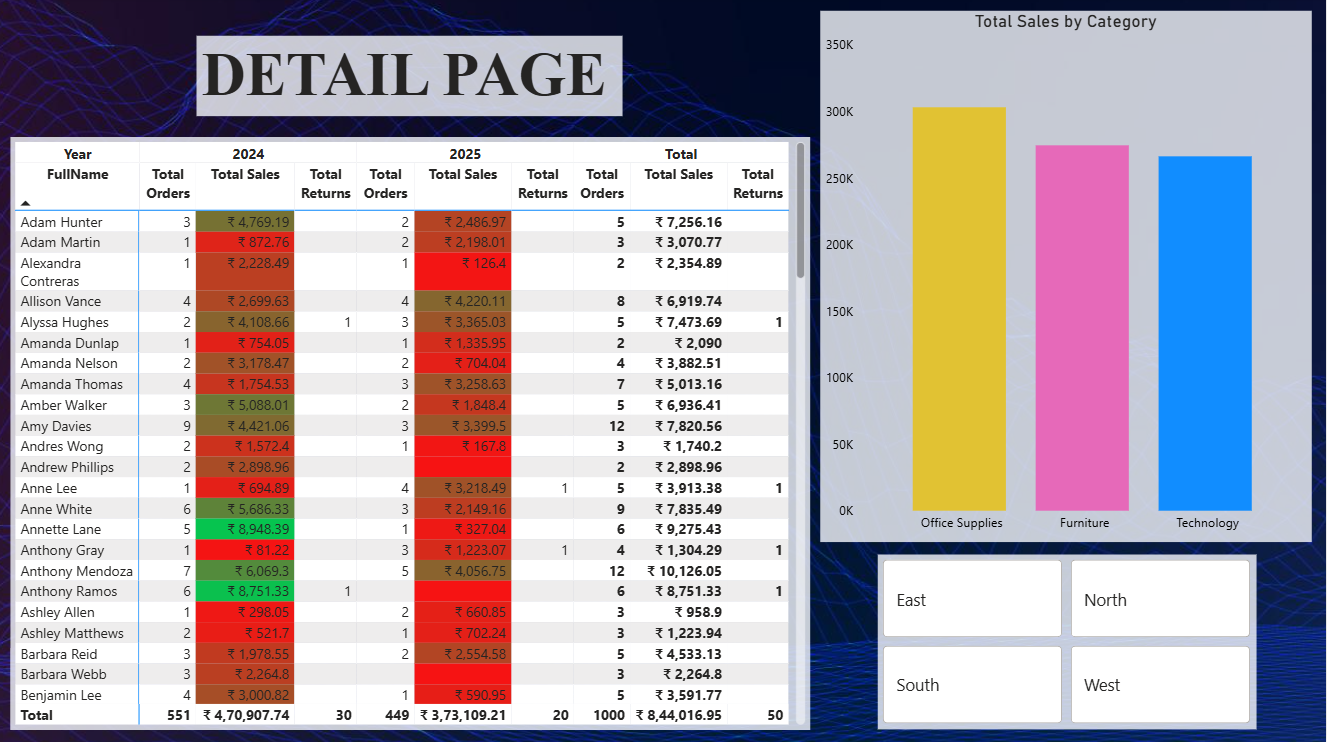

What the dashboard file says about the page in this screenshot:
{"tool":"powerbi","page":{"name":"DETAIL PAGE","canvas":[1280,720],"ordinal":1},"visuals":[{"type":"pivotTable","fields":{"Columns":["Date_Dim.Date.Variation.Date Hierarchy.Year","Date_Dim.Date.Variation.Date Hierarchy.Quarter","Date_Dim.Date.Variation.Date Hierarchy.Month","Date_Dim.Date.Variation.Date Hierarchy.Day"],"Rows":["Customer_Dim.FullName"],"Values":["Customer_Dim.Total Orders","Customer_Dim.Total Sales","Customer_Dim.Total Returns"]},"box":[10.9,135.1,772.1,571.9],"z":0},{"type":"columnChart","fields":{"Category":["Product_Dim.Category"],"Y":["Customer_Dim.Total Sales"]},"box":[792.6,13.3,474.1,512.7],"z":1000},{"type":"advancedSlicerVisual","fields":{"Values":["Customer_Dim.Region"]},"box":[848.1,538.1,365.6,168.9],"z":2000},{"type":"textbox","box":[190.6,37.4,411.4,77.2],"z":2001}]}

Visuals, with their boxes in screenshot pixels (x1, y1, x2, y2), scaled from the page's 1280x720 canvas onto the 1327x742 screenshot:
pivotTable - Date_Dim.Date.Variation.Date Hierarchy.Year x Date_Dim.Date.Variation.Date Hierarchy.Quarter: x1=11, y1=139, x2=812, y2=729
columnChart - Product_Dim.Category x Customer_Dim.Total Sales: x1=822, y1=14, x2=1313, y2=542
advancedSlicerVisual - Customer_Dim.Region: x1=879, y1=555, x2=1258, y2=729
textbox: x1=198, y1=39, x2=624, y2=118
